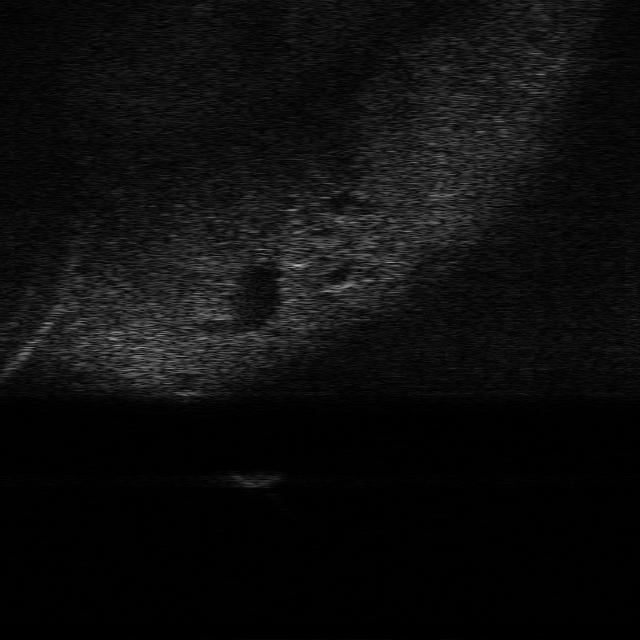cube: (230, 469, 281, 487)
